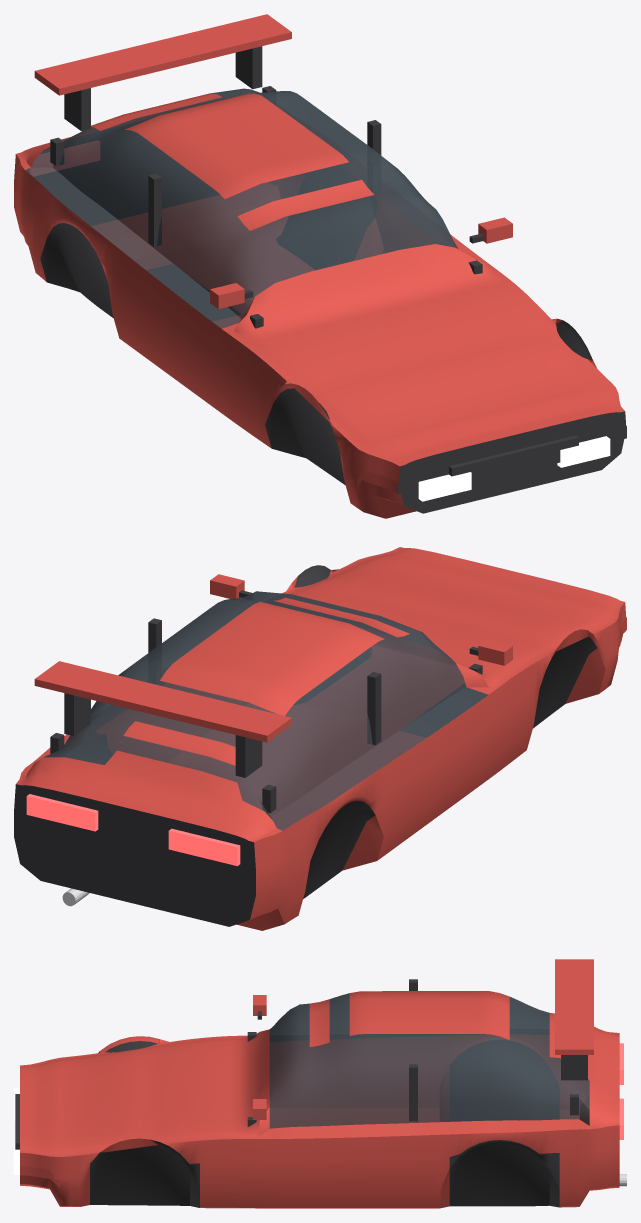
The model's file is hatch.glb.
The picture shows the model from 3 angles, top to bottom: view 1: azimuth 30°, elevation 25°; view 2: azimuth 150°, elevation 25°; view 3: azimuth 270°, elevation 25°; orthographic projection. The views are drawn at different scales.
Parts seen in each view (by area): view 1: Body, Wing, Grille, TailLamp, HeadLamp, HeadLamp.001, WingStay.001, BPillar.001, WingStay, Mirror, Mirror.001; view 2: Body, Wing, TailLamp.001, TailLamp, BPillar.001, WingStay, WingStay.001, Mirror, Mirror.001, BPillar; view 3: Body, Wing, WingStay.001, BPillar.
Part boxes in pixels (x1,y1,x2,y2): Body: (14, 88, 626, 518); Wing: (34, 14, 291, 95); Grille: (449, 435, 578, 483); TailLamp: (30, 141, 99, 175); HeadLamp: (418, 472, 471, 501); HeadLamp.001: (557, 436, 610, 467); WingStay.001: (235, 46, 262, 89); BPillar.001: (148, 173, 161, 246); WingStay: (64, 88, 90, 130); Mirror: (210, 283, 244, 308); Mirror.001: (478, 217, 512, 243); Body: (14, 547, 626, 930); Wing: (34, 661, 291, 742); TailLamp.001: (26, 794, 98, 831); TailLamp: (168, 828, 240, 866); BPillar.001: (367, 672, 381, 745); WingStay: (235, 735, 262, 777); WingStay.001: (64, 693, 90, 735); Mirror: (478, 639, 512, 665); Mirror.001: (210, 574, 244, 598); BPillar: (148, 618, 161, 685); Body: (20, 991, 619, 1208); Wing: (555, 959, 593, 1054); WingStay.001: (561, 1055, 587, 1080); BPillar: (409, 1064, 417, 1121).
Size of the model in its own units: 1.8 by 1.2 by 4.09.
